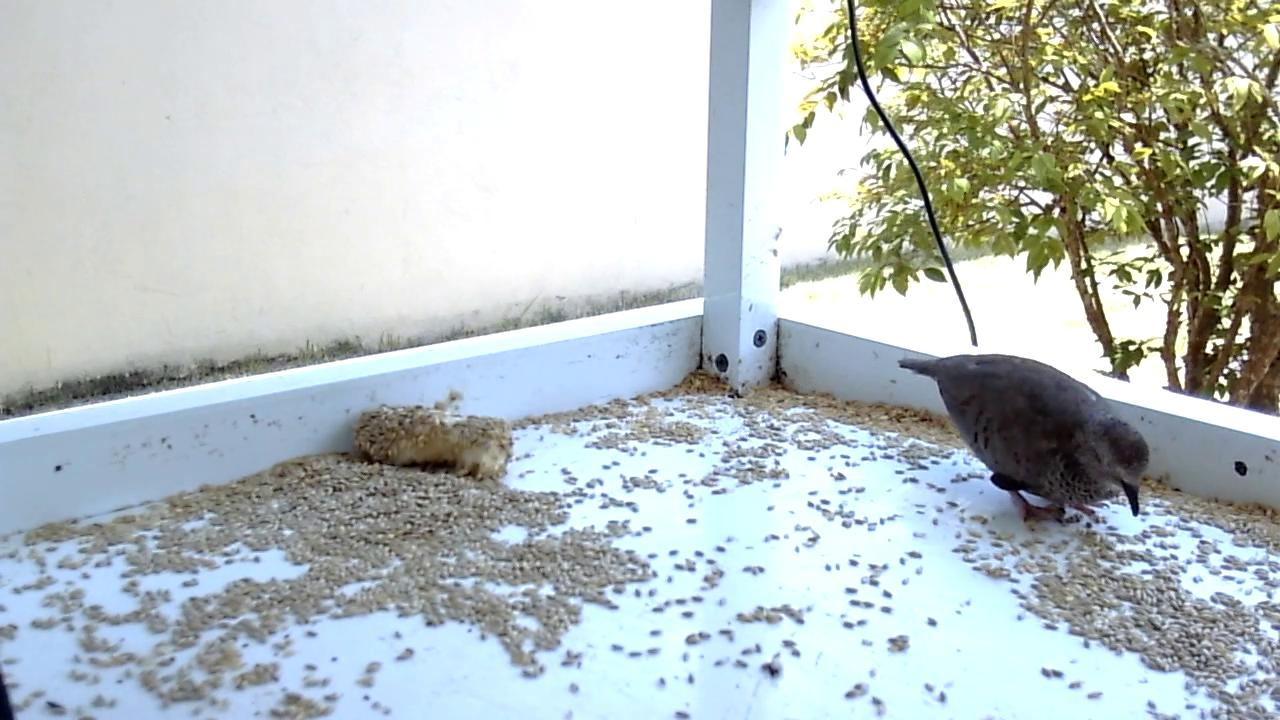rolinha: (896, 352, 1154, 529)
